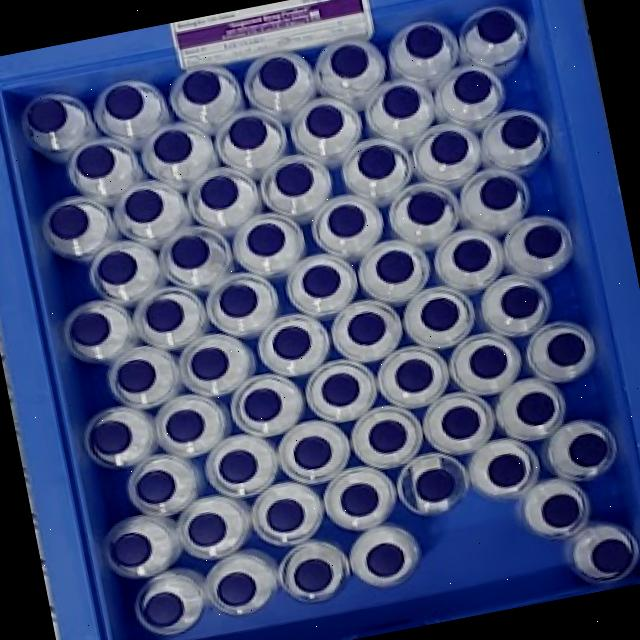vials: (90, 420, 132, 455), (110, 532, 152, 567), (49, 204, 89, 240), (592, 539, 633, 574), (143, 592, 184, 627), (27, 98, 67, 133), (97, 251, 138, 285), (415, 468, 456, 502), (182, 70, 221, 105), (275, 162, 314, 197), (146, 298, 185, 333), (321, 372, 360, 407), (294, 558, 333, 593), (188, 512, 227, 547), (71, 312, 111, 346), (136, 470, 176, 504), (441, 406, 481, 440), (105, 85, 143, 120), (331, 44, 369, 79), (405, 24, 443, 59), (488, 453, 526, 488), (542, 493, 580, 528), (76, 145, 115, 179), (229, 116, 268, 150), (454, 70, 493, 104), (358, 145, 397, 179), (501, 115, 540, 149), (166, 409, 205, 443), (219, 284, 258, 318), (480, 176, 519, 210), (547, 333, 586, 367), (569, 433, 608, 467), (366, 543, 405, 577), (217, 572, 256, 606), (501, 286, 541, 319), (267, 498, 304, 533), (247, 223, 285, 257), (383, 85, 421, 119), (478, 10, 516, 44), (431, 131, 469, 165), (118, 359, 156, 393), (191, 347, 229, 381), (273, 326, 311, 360), (244, 388, 282, 422), (376, 250, 414, 284), (408, 191, 446, 225), (348, 312, 386, 346), (470, 345, 508, 379), (294, 436, 332, 470), (369, 420, 407, 454), (517, 392, 555, 426), (171, 236, 210, 269), (453, 239, 492, 272), (421, 298, 460, 331), (395, 359, 434, 392), (307, 105, 344, 139), (201, 176, 238, 210), (259, 57, 296, 91), (220, 450, 257, 484), (341, 483, 378, 517), (125, 190, 163, 223), (153, 131, 192, 163), (329, 204, 365, 238), (303, 265, 340, 298), (524, 225, 562, 257)
